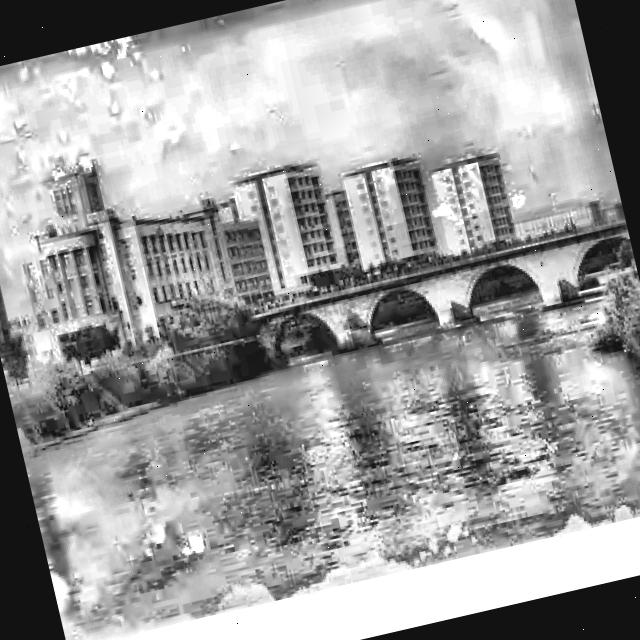stone bridge: (228, 205, 640, 405)
